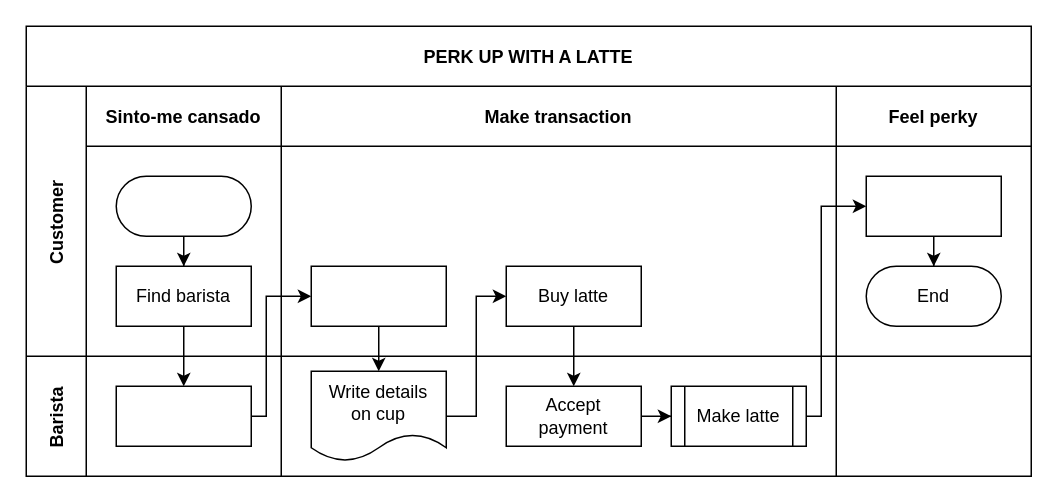
Some shapes in this 1058 by 503 pixel diagram are drawn without their labels. The shapes that lost their labels are listed below. From the top down, each one's centre as x and y in pixels, then its label:
At (183,205): "Start".
At (933,205): "Drink latte".
At (378,295): "Request latte".
At (183,415): "Greet customer".
